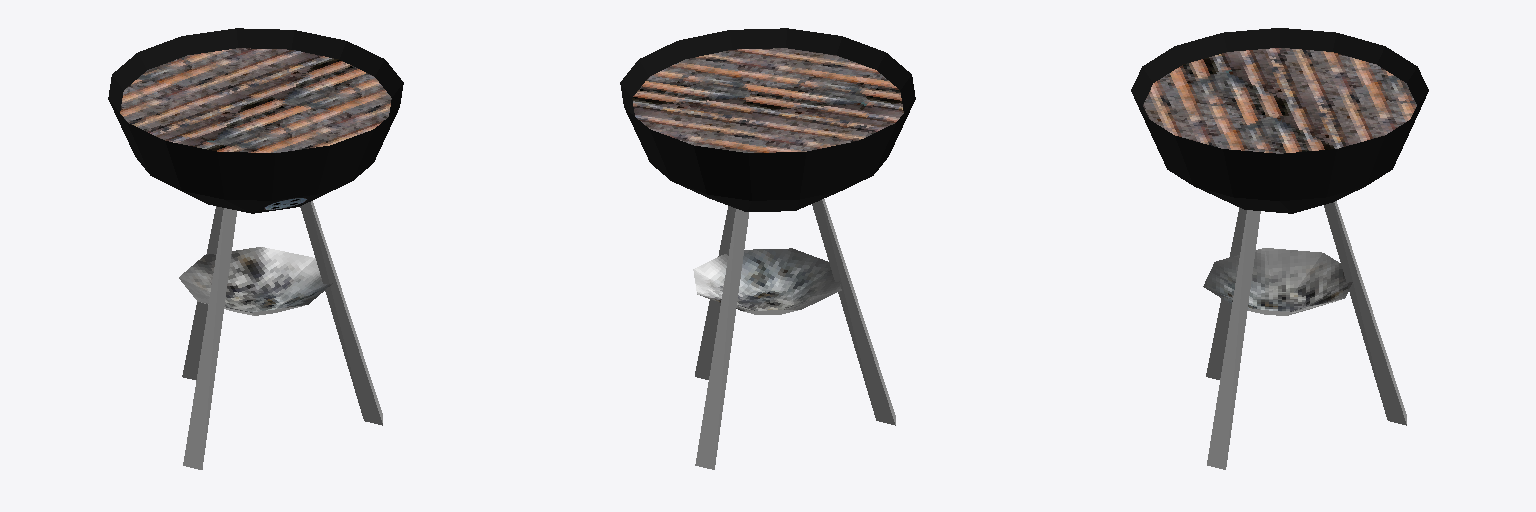
The picture shows the model from 3 angles: view 1: azimuth 30°, elevation 25°; view 2: azimuth 150°, elevation 25°; view 3: azimuth 270°, elevation 25°; orthographic projection.
Size of the model in its own units: 1.83 by 2.24 by 1.83.
1 materials, 1 textured.